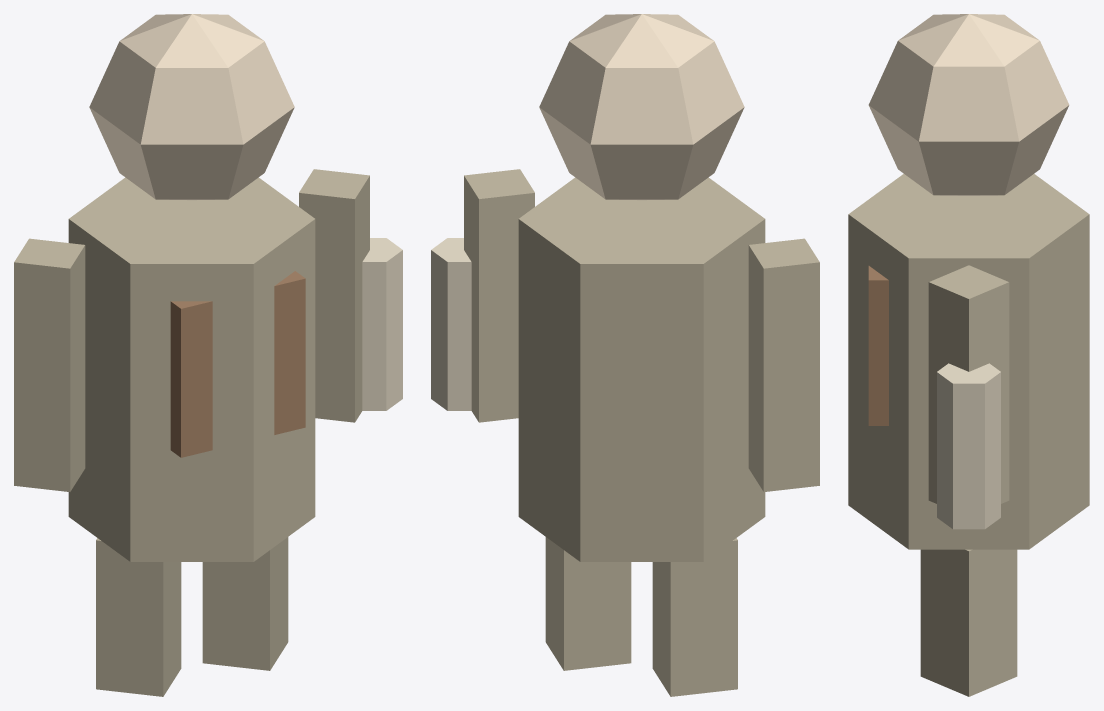
Rendered from scout.glb.
The picture shows the model from 3 angles, left to right: view 1: azimuth 30°, elevation 25°; view 2: azimuth 150°, elevation 25°; view 3: azimuth 270°, elevation 25°; orthographic projection. The views are drawn at different scales.
Visible parts, largest first — view 1: scout_torso, scout_head, scout_al, scout_ar, scout_ll, cloak, scout_lr, scroll; view 2: scout_torso, scout_head, scout_al, scout_ar, scout_ll, scout_lr, scroll; view 3: scout_torso, scout_head, scout_lr, scroll, scout_ar, cloak.
Boxes of the visible parts, x1,y1,x2,y2 form: scout_torso: (68, 177, 315, 561); scout_head: (89, 14, 294, 200); scout_al: (14, 238, 85, 491); scout_ar: (299, 169, 369, 422); scout_ll: (96, 538, 181, 696); cloak: (170, 271, 305, 457); scout_lr: (202, 537, 288, 670); scroll: (362, 238, 402, 410); scout_torso: (518, 177, 765, 561); scout_head: (539, 14, 744, 200); scout_al: (748, 238, 819, 491); scout_ar: (464, 169, 534, 422); scout_ll: (652, 538, 737, 696); scout_lr: (545, 537, 631, 670); scroll: (431, 238, 471, 410); scout_torso: (848, 174, 1089, 549); scout_head: (868, 14, 1069, 195); scout_lr: (920, 549, 1017, 696); scroll: (937, 363, 1000, 529); scout_ar: (928, 265, 1009, 503); cloak: (868, 266, 888, 425).
Size of the model in its own units: 0.1069 by 0.175 by 0.06.
